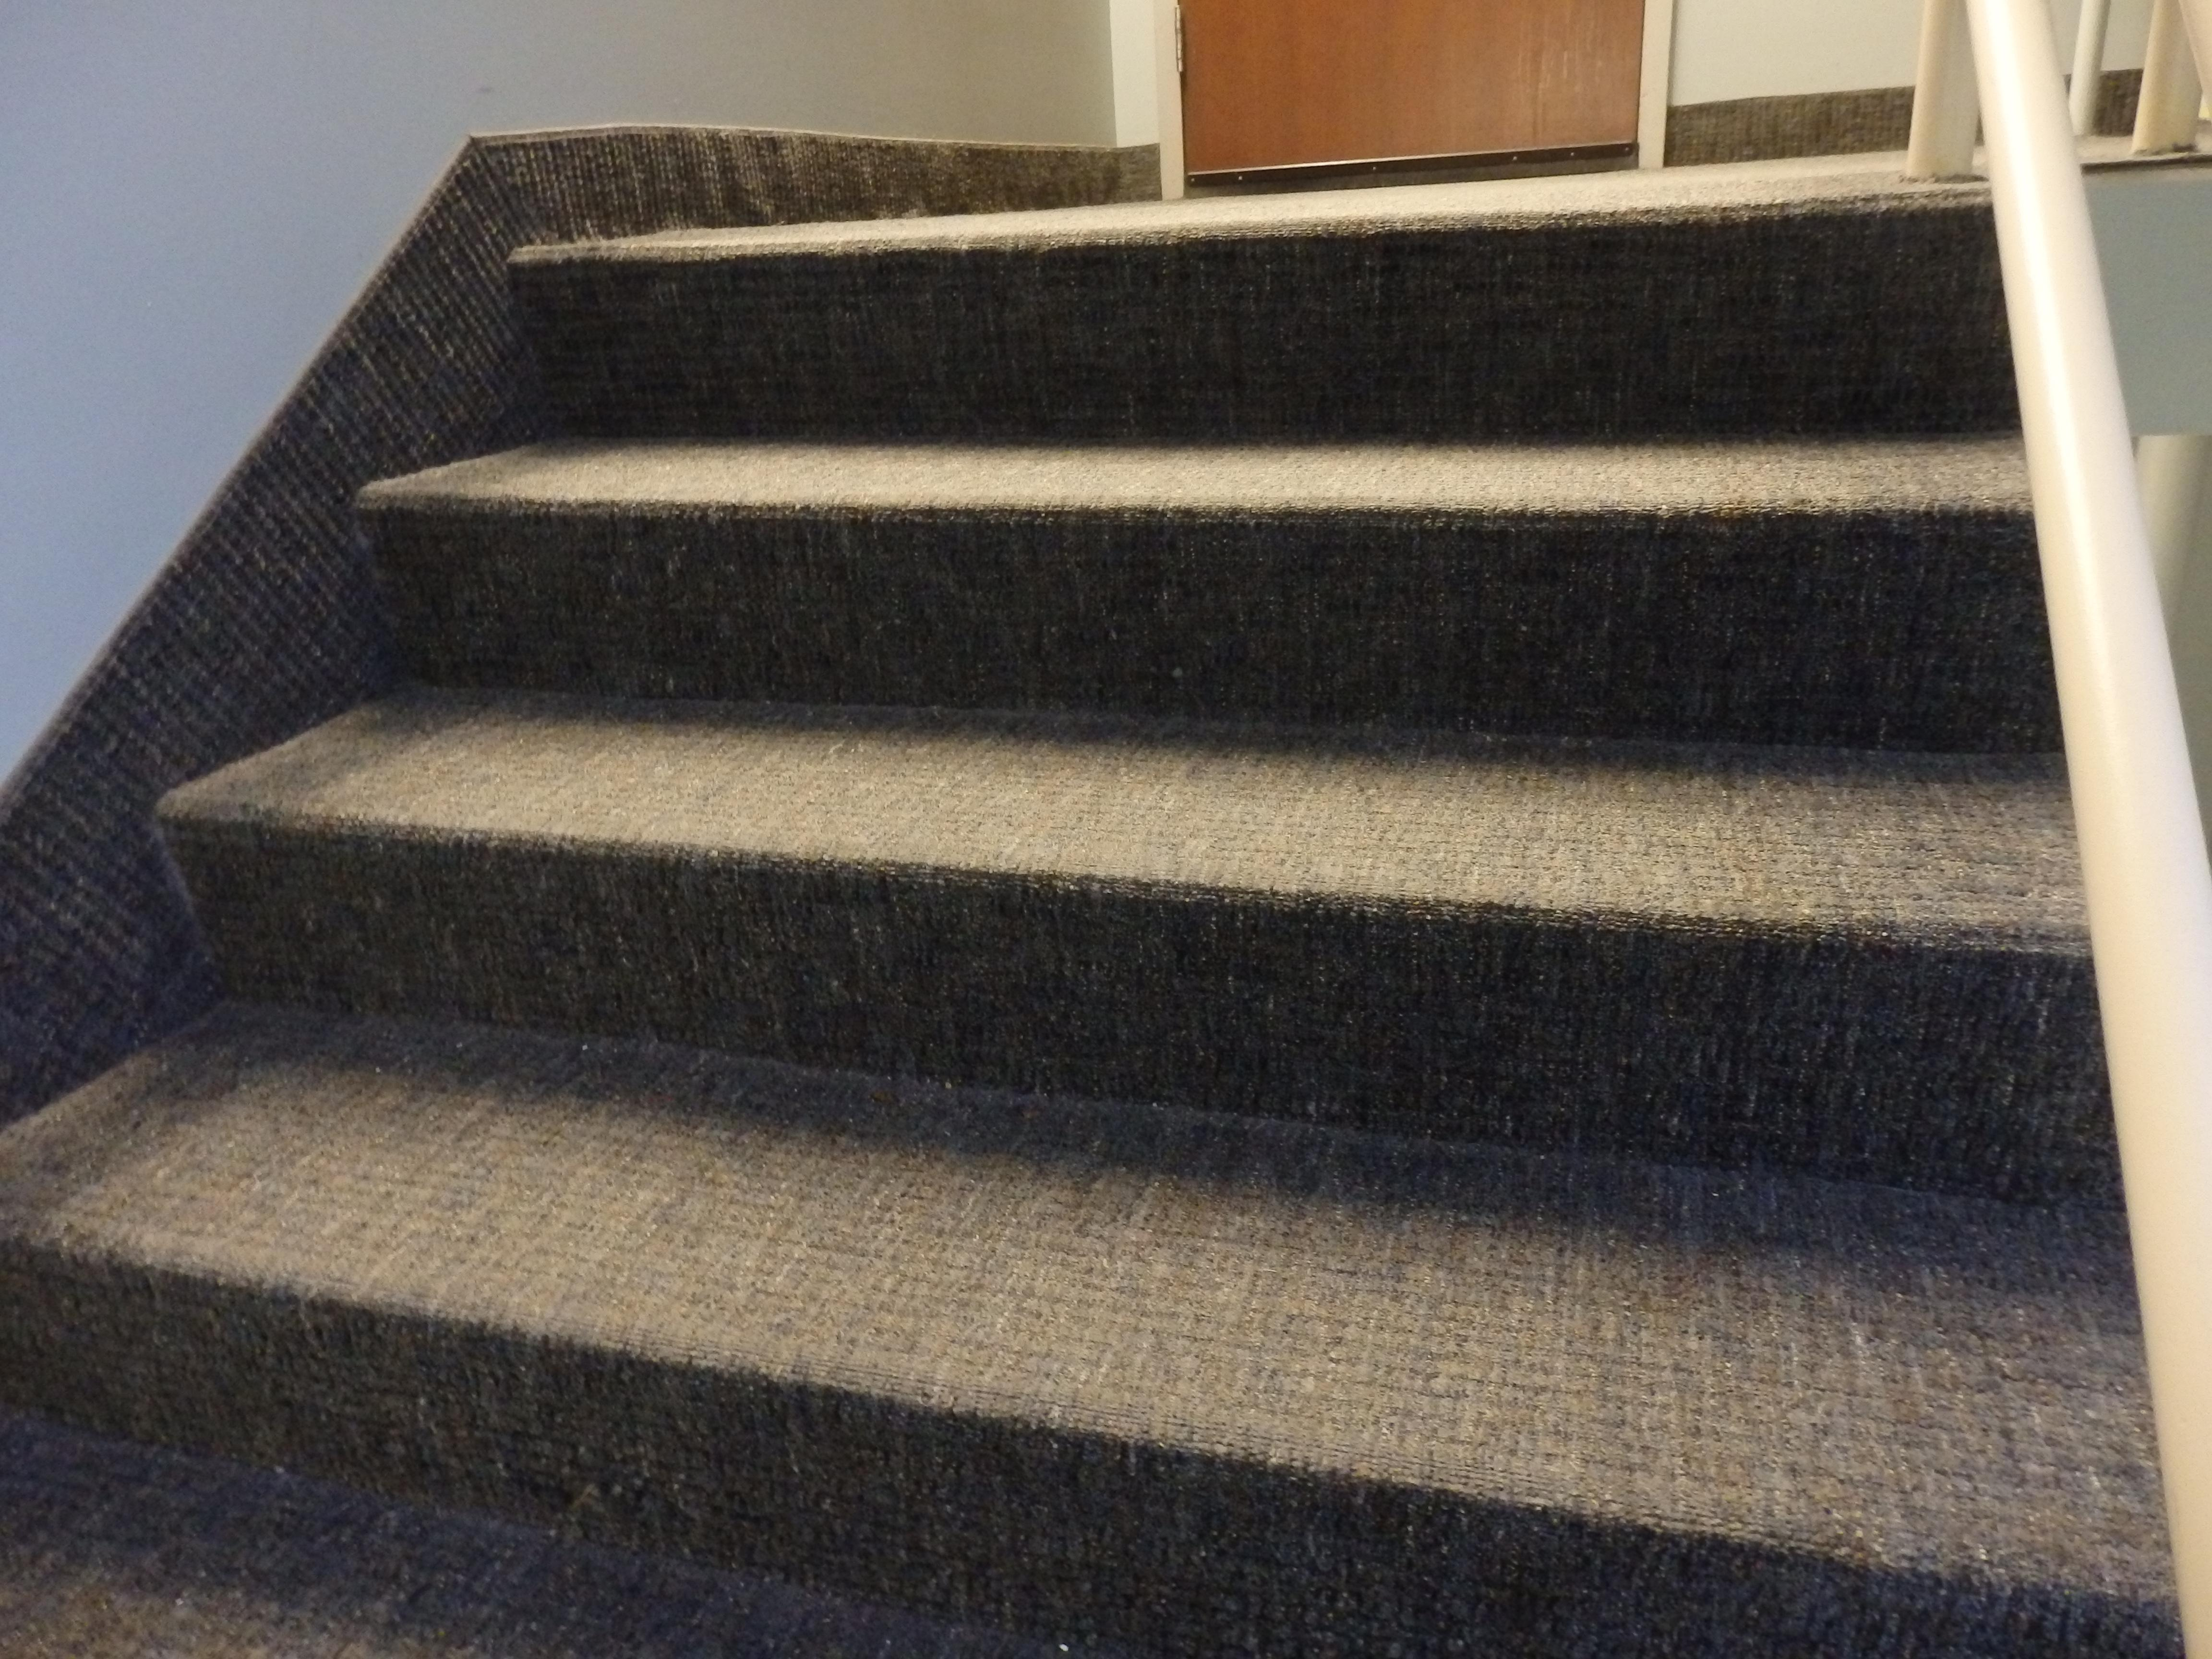stairs_up: (204, 61, 2073, 1635)
